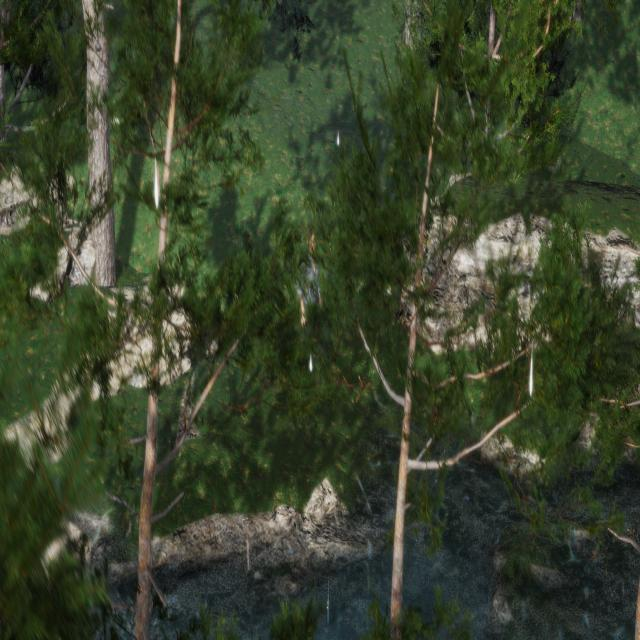Human: (296, 229, 336, 370)
